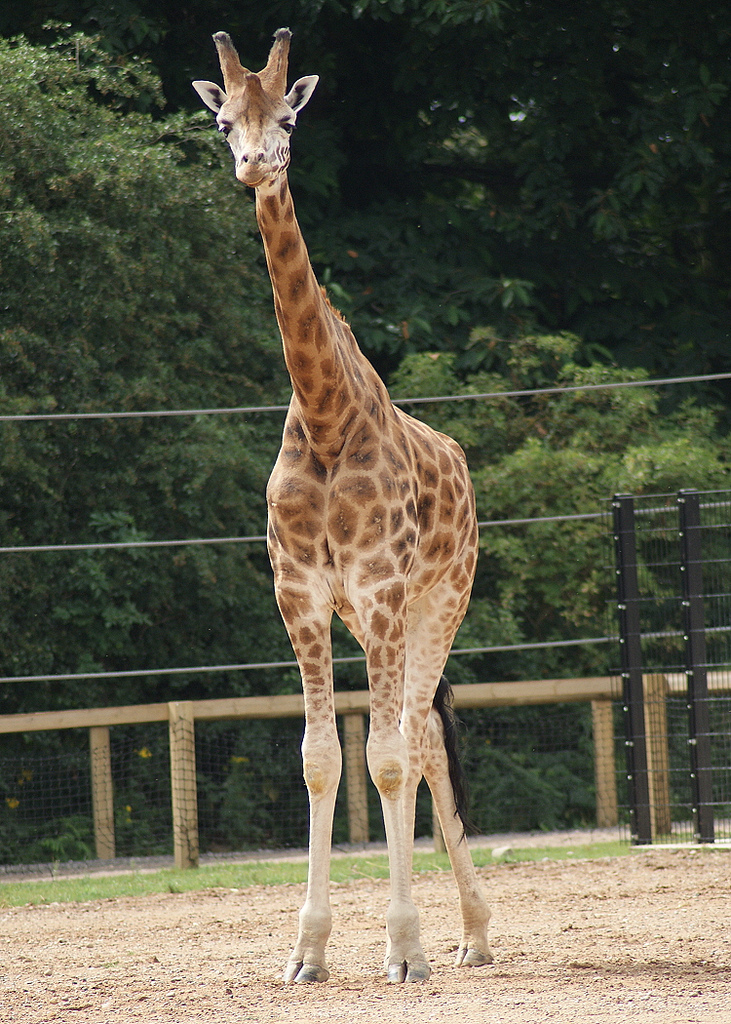giraffe: (188, 32, 524, 987)
